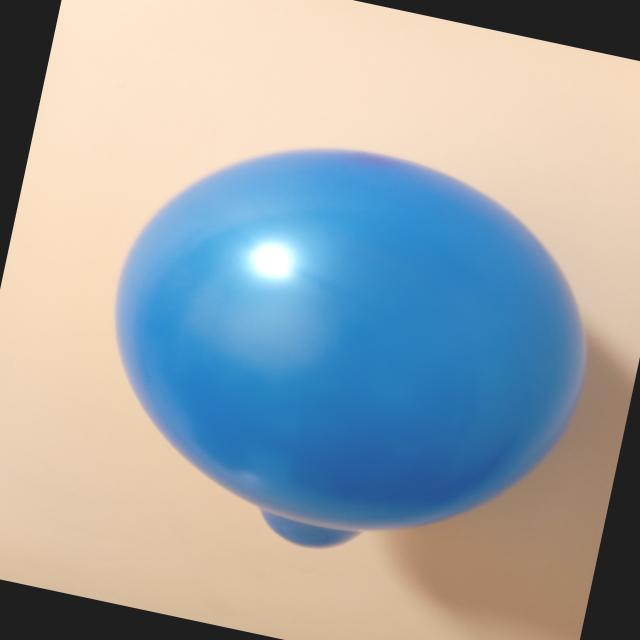balloon: (116, 150, 586, 546)
